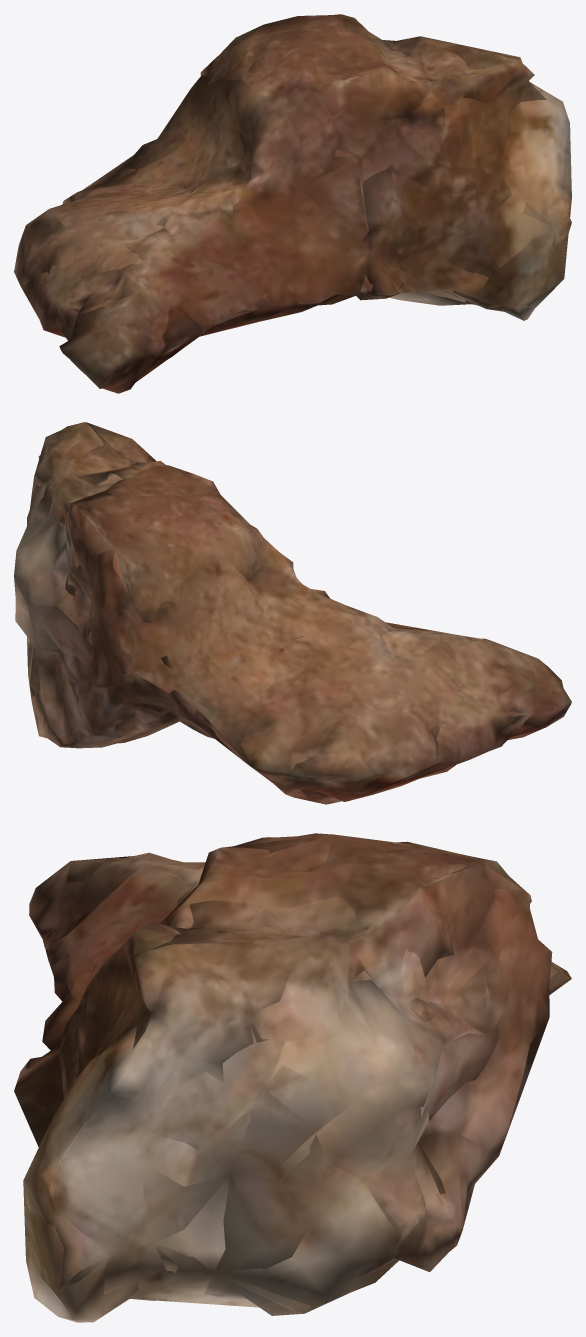
Rendered from stone_01.glb.
3 renders of one model, top to bottom at view 1: azimuth 30°, elevation 25°; view 2: azimuth 150°, elevation 25°; view 3: azimuth 270°, elevation 25°, orthographic. The views are drawn at different scales.
Parts seen in each view (by area): view 1: stone_01, stone_01_lo; view 2: stone_01, stone_01_lo; view 3: stone_01, stone_01_lo.
Part boxes in pixels (bbox=[...]): stone_01: bbox=[14, 14, 571, 393]; stone_01_lo: bbox=[21, 31, 571, 388]; stone_01: bbox=[14, 422, 571, 804]; stone_01_lo: bbox=[14, 423, 567, 804]; stone_01: bbox=[19, 834, 571, 1322]; stone_01_lo: bbox=[14, 833, 571, 1313].
Bounding box in the file's own units: 0.1464 × 0.071 × 0.0886.
1 material, 1 textured.
